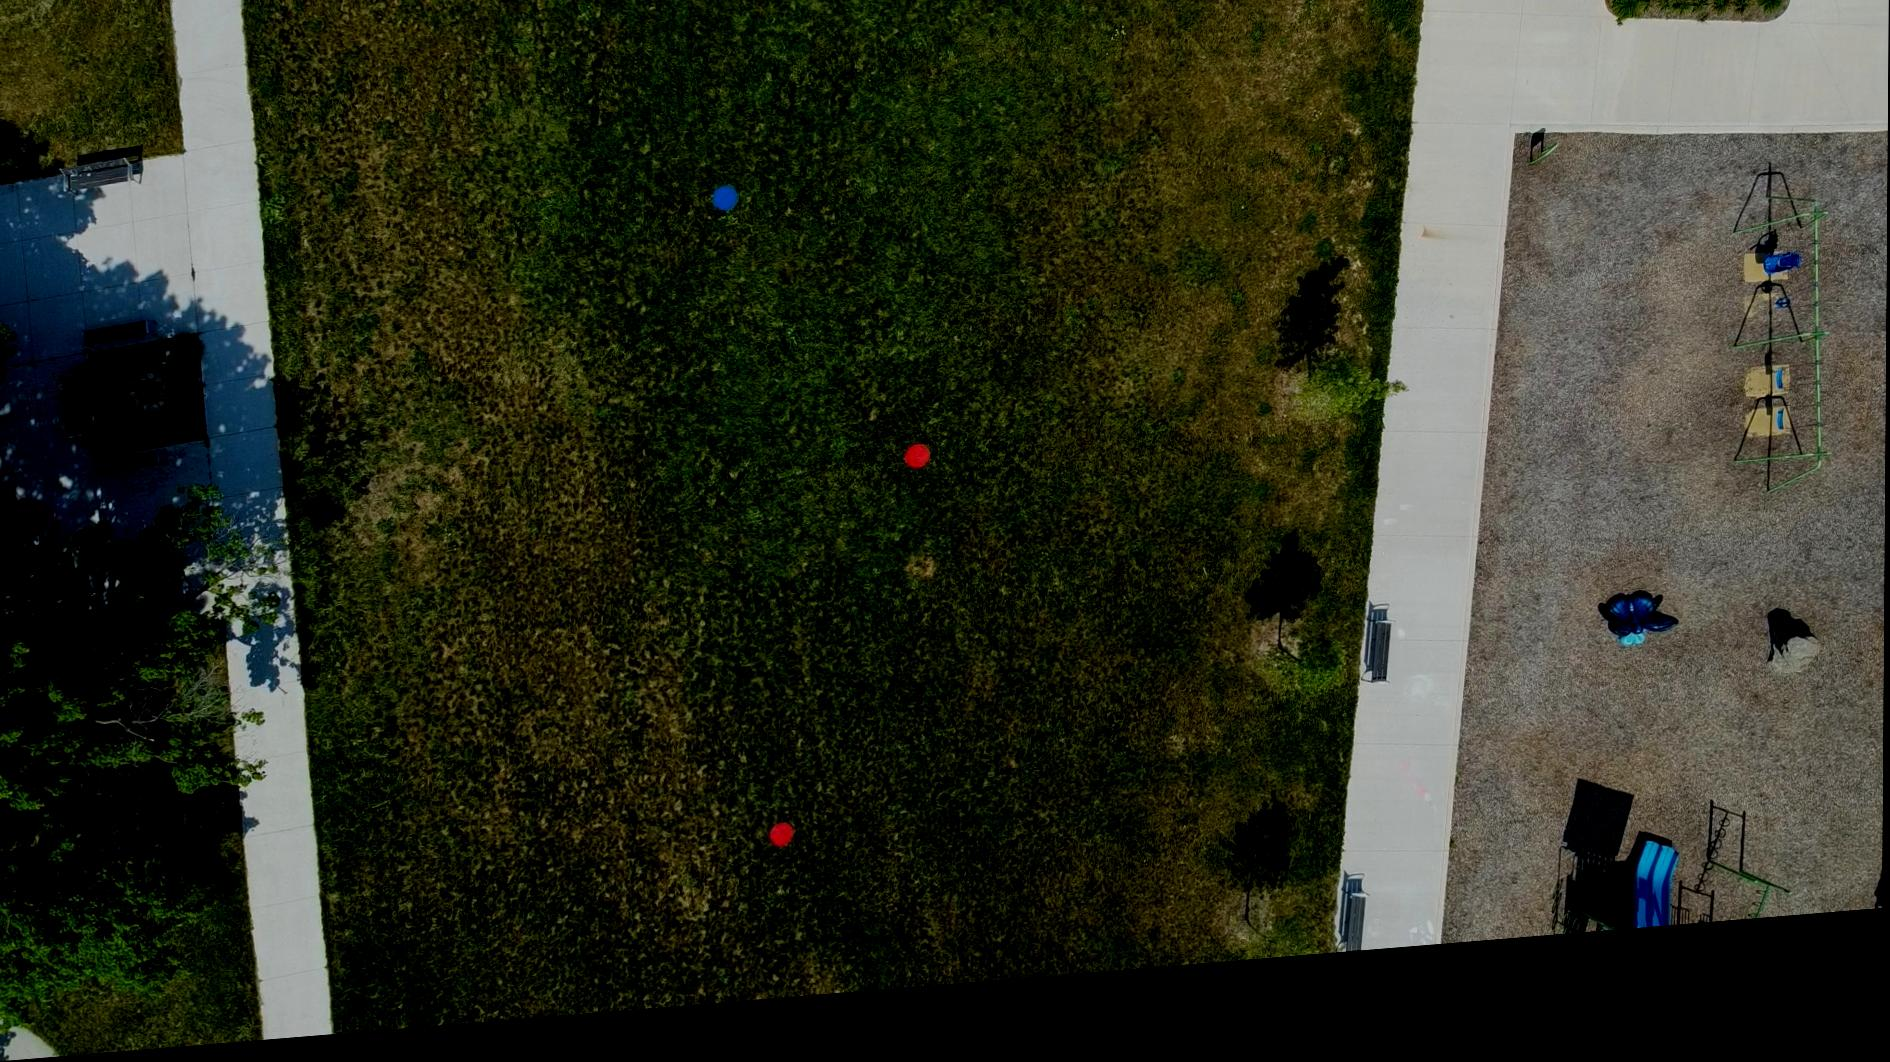Blue: (711, 197, 740, 225)
Red: (903, 458, 932, 488), (770, 835, 797, 862)
